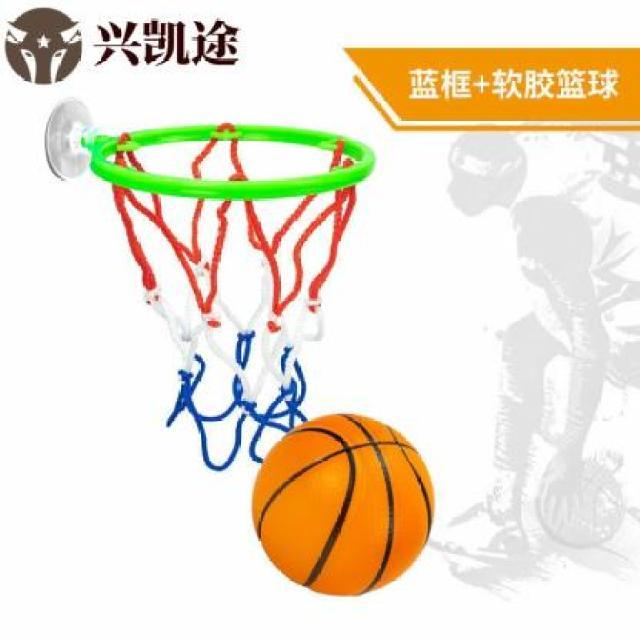basketball: (252, 413, 434, 595)
rim: (95, 129, 378, 455)
